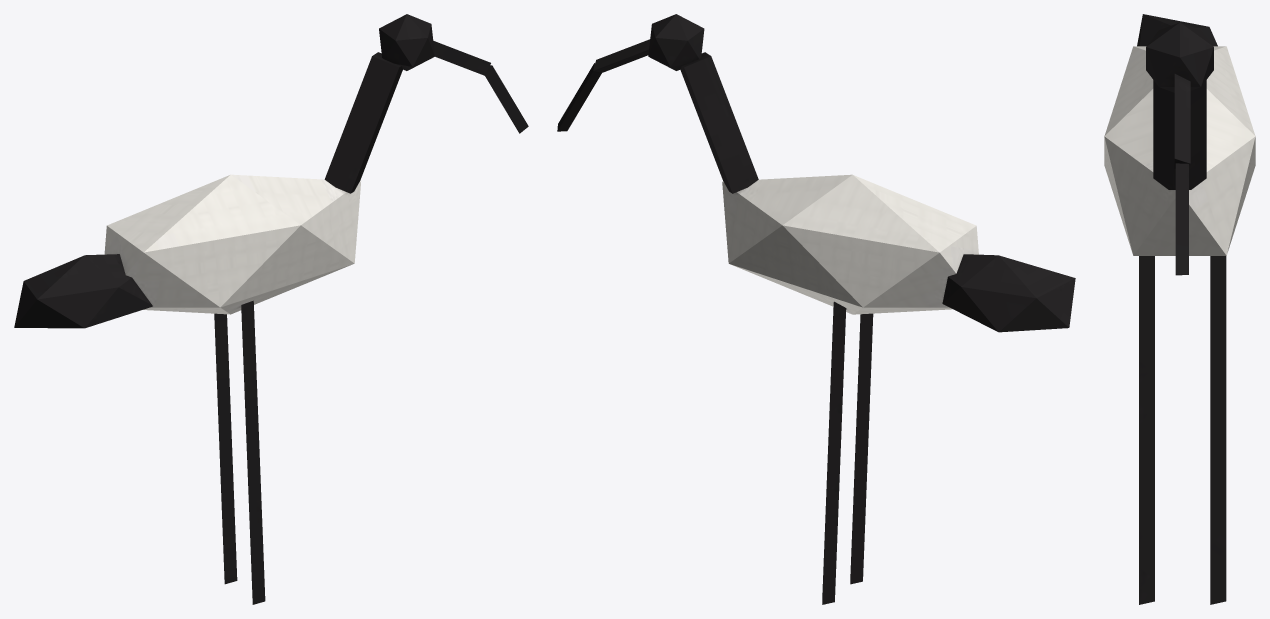
Rendered from ibis_tex.glb.
The picture shows the model from 3 angles, left to right: view 1: azimuth 30°, elevation 25°; view 2: azimuth 150°, elevation 25°; view 3: azimuth 270°, elevation 25°; orthographic projection. The views are drawn at different scales.
Visible parts, largest first — view 1: ibis; view 2: ibis; view 3: ibis.
Boxes of the visible parts, x1,y1,x2,y2 form: ibis: (14,14,528,604); ibis: (557,14,1075,604); ibis: (1104,14,1255,604).
Size of the model in its own units: 0.8441 by 0.8454 by 0.1701.
Materials: 2 (2 with a texture image).
